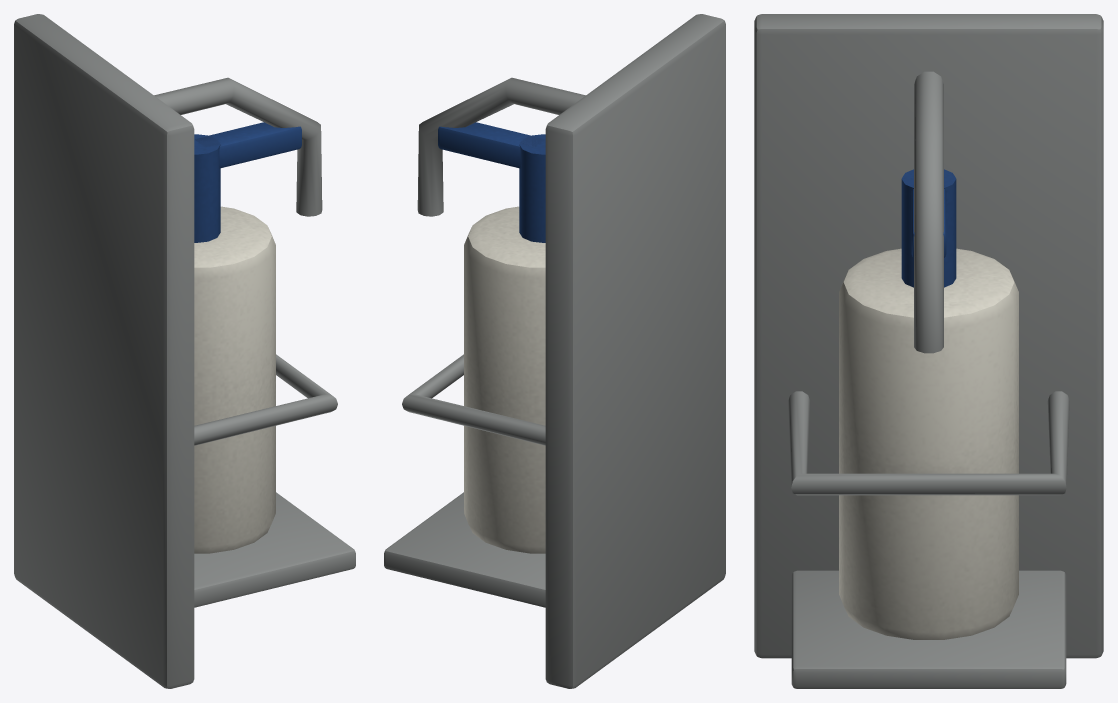
The model's file is CTCC_HALL_HandSanitizer.fbx.
3 views of the same model, side by side, from view 1: azimuth 30°, elevation 25°; view 2: azimuth 150°, elevation 25°; view 3: azimuth 270°, elevation 25° (orthographic). The views are drawn at different scales.
Parts seen in each view (by area): view 1: CTCC_HALL_HandSanitizer; view 2: CTCC_HALL_HandSanitizer; view 3: CTCC_HALL_HandSanitizer.
Boxes of the visible parts, left/top/right/bottom form: CTCC_HALL_HandSanitizer: left=14, top=14, right=355, bottom=688; CTCC_HALL_HandSanitizer: left=384, top=14, right=725, bottom=688; CTCC_HALL_HandSanitizer: left=754, top=14, right=1103, bottom=688.
Bounding box in the file's own units: 0.1207 × 0.28 × 0.14.
